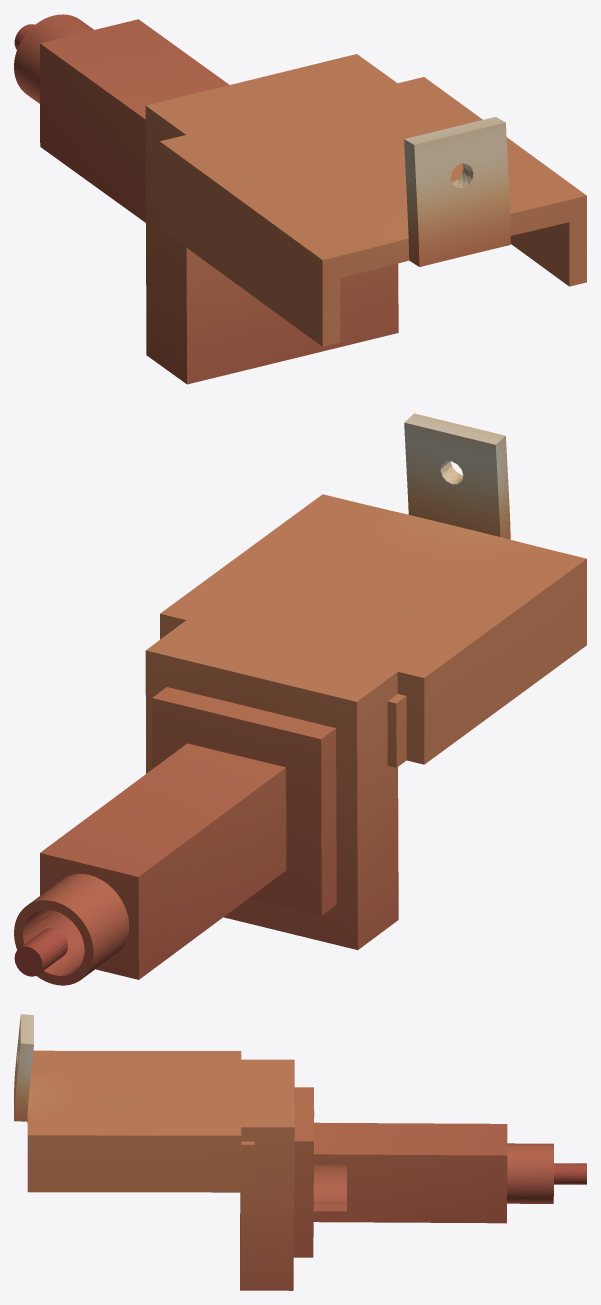
Rendered from z_saddle_Fz_u.glb.
The picture shows the model from 3 angles, top to bottom: view 1: azimuth 30°, elevation 25°; view 2: azimuth 150°, elevation 25°; view 3: azimuth 270°, elevation 25°; orthographic projection. The views are drawn at different scales.
Parts seen in each view (by area): view 1: geometry_0; view 2: geometry_0; view 3: geometry_0.
Part boxes in pixels (x1=…): geometry_0: x1=14, y1=14, x2=586, y2=384; geometry_0: x1=14, y1=413, x2=586, y2=985; geometry_0: x1=14, y1=1014, x2=586, y2=1290.
Bounding box in the file's own units: 150 × 189 × 429.
